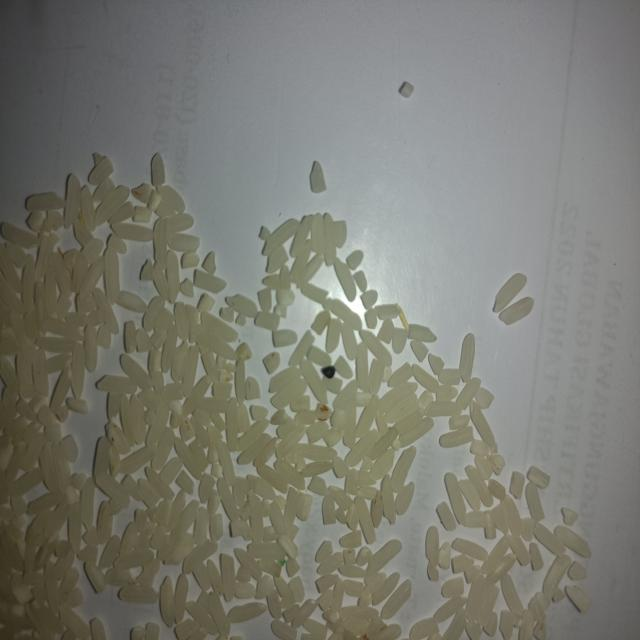Kerikil: (319, 365, 341, 381)
